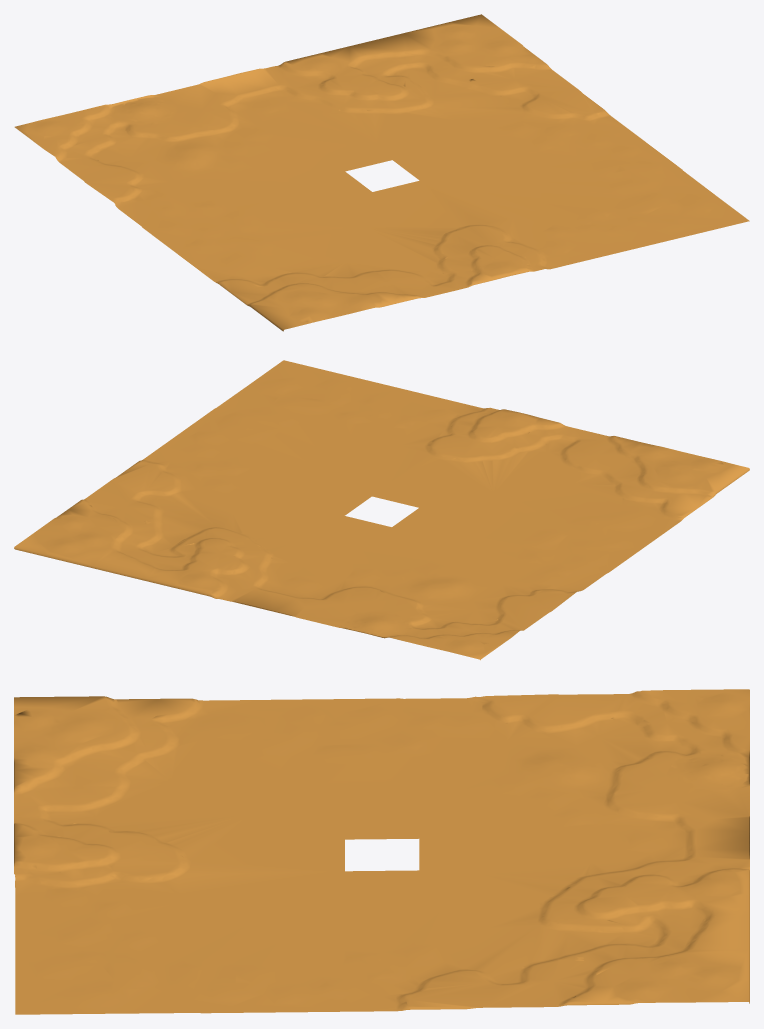
File: FARLAND.glb
3 renders of one model, top to bottom at view 1: azimuth 30°, elevation 25°; view 2: azimuth 150°, elevation 25°; view 3: azimuth 270°, elevation 25°, orthographic. The views are drawn at different scales.
Parts seen in each view (by area): view 1: 2-FARLANDSCAPE; view 2: 2-FARLANDSCAPE; view 3: 2-FARLANDSCAPE.
Boxes of the visible parts, x1,y1,x2,y2 form: 2-FARLANDSCAPE: (14, 14, 749, 331); 2-FARLANDSCAPE: (14, 360, 749, 660); 2-FARLANDSCAPE: (14, 689, 749, 1014).
Size of the model in its own units: 17456 by 429 by 17456.
